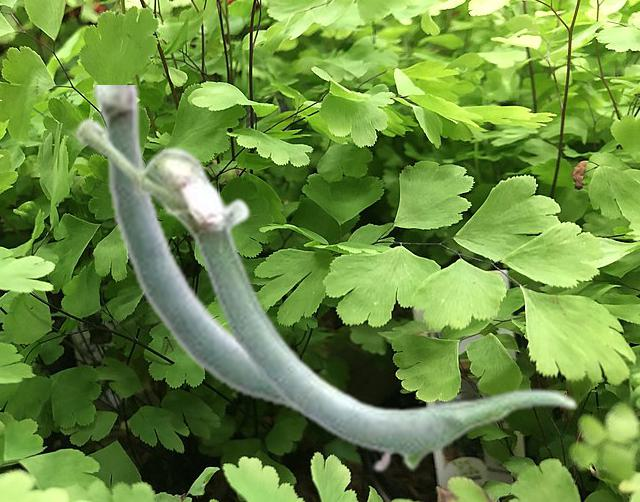french_bean: (74, 116, 577, 470), (93, 85, 397, 474)
